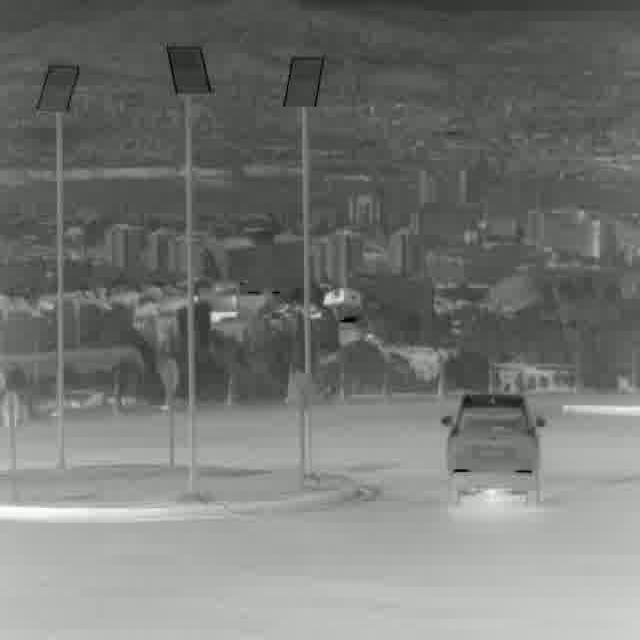Car: (446, 396, 540, 508)
